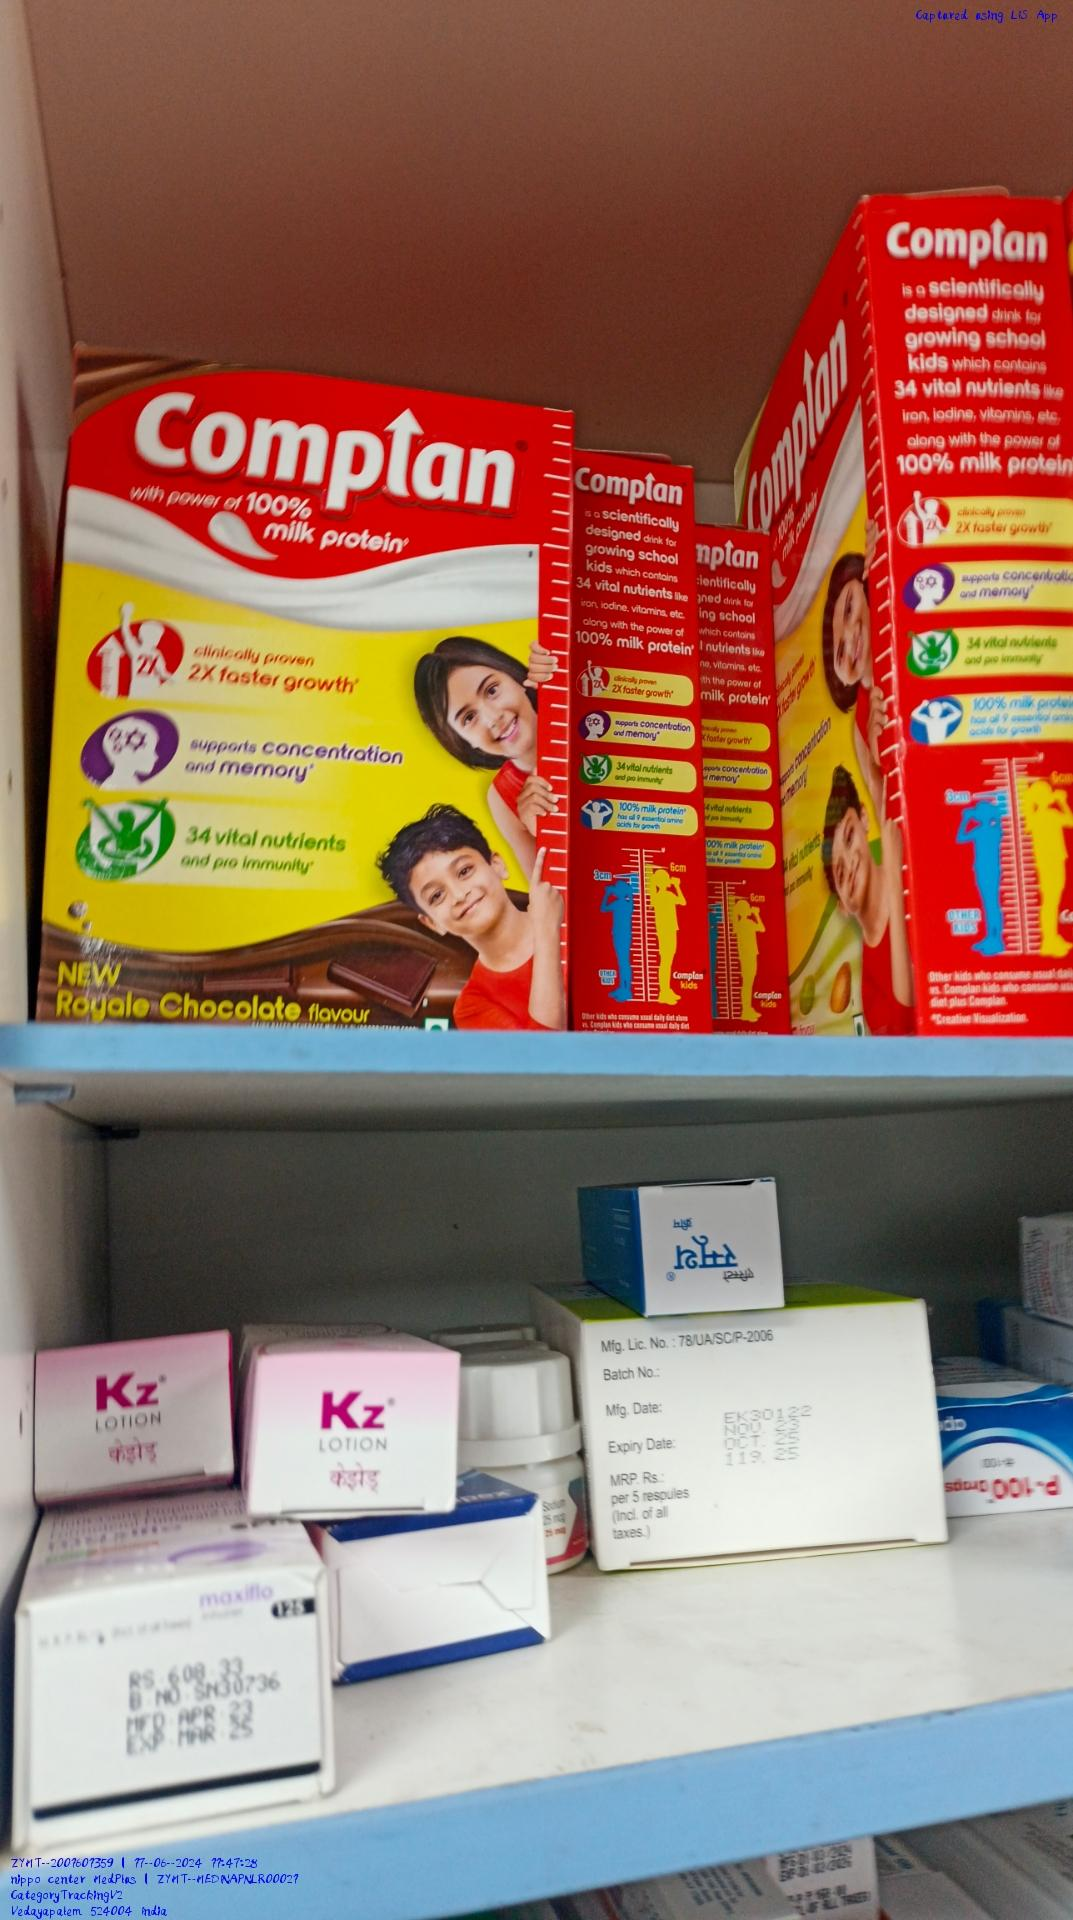COMPLAN_CHOCOLATE_500_GMS_PACK: (55, 361, 555, 1030)
